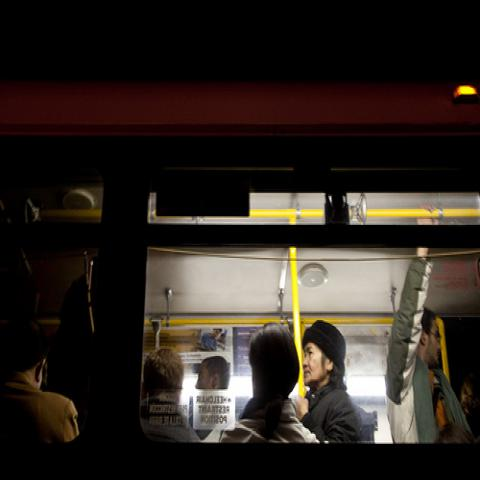bus: (0, 58, 479, 478)
